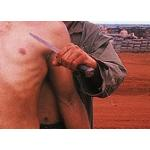Pisau: (26, 25, 96, 80)
